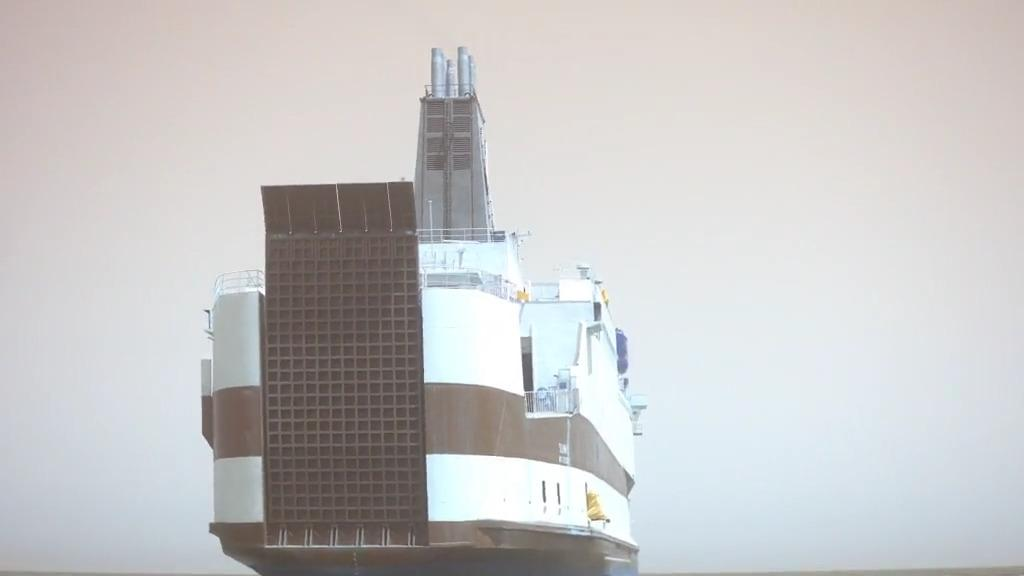PassengerShip: (190, 42, 652, 576)
